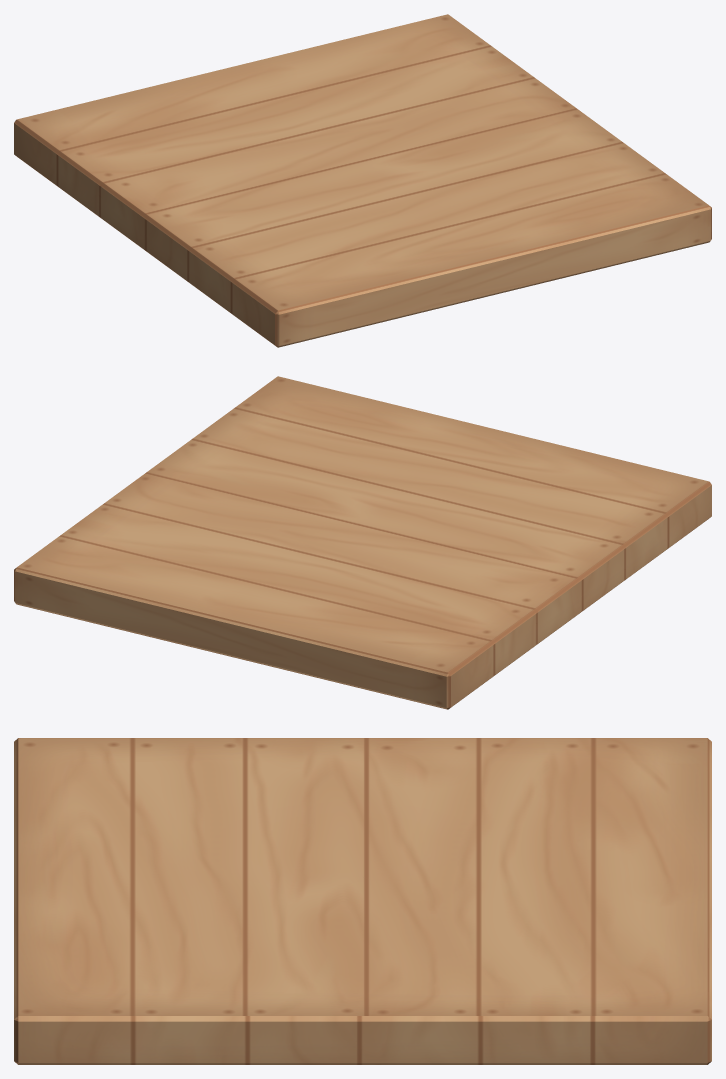
File: SinglePlatform.fbx
3 views of the same model, one above another, from view 1: azimuth 30°, elevation 25°; view 2: azimuth 150°, elevation 25°; view 3: azimuth 270°, elevation 25° (orthographic). The views are drawn at different scales.
Parts seen in each view (by area): view 1: Cube.001; view 2: Cube.001; view 3: Cube.001.
Boxes of the visible parts, x1,y1,x2,y2 form: Cube.001: (14, 14, 711, 347); Cube.001: (14, 376, 711, 709); Cube.001: (14, 738, 711, 1064).
Bounding box in the file's own units: 135 × 11 × 142.
